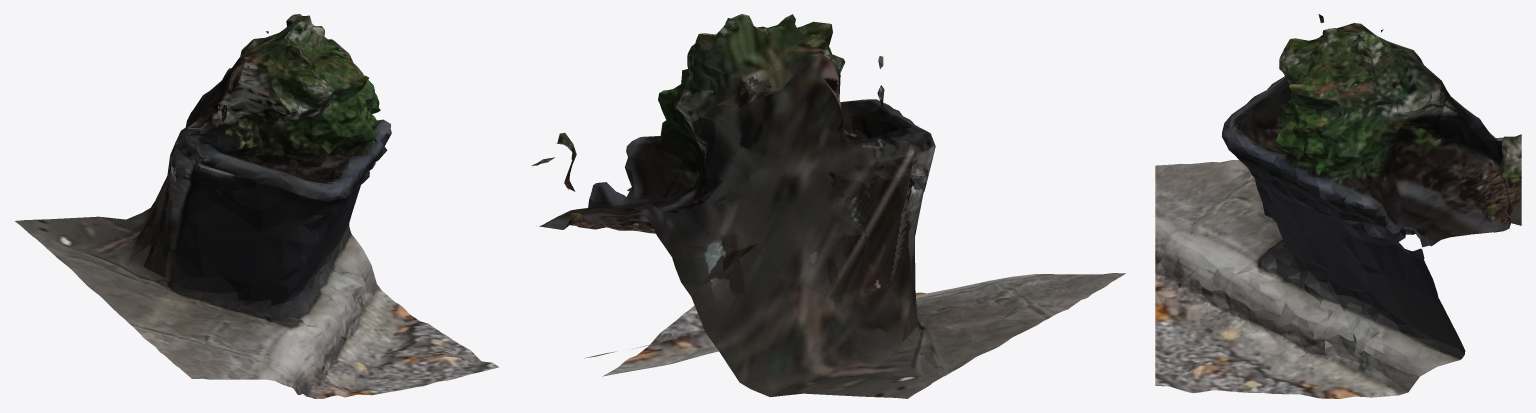
3 renders of one model, left to right at view 1: azimuth 30°, elevation 25°; view 2: azimuth 150°, elevation 25°; view 3: azimuth 270°, elevation 25°, orthographic. The views are drawn at different scales.
Size of the model in its own units: 0.8373 by 0.8026 by 0.8374.
5 materials, 5 textured.
